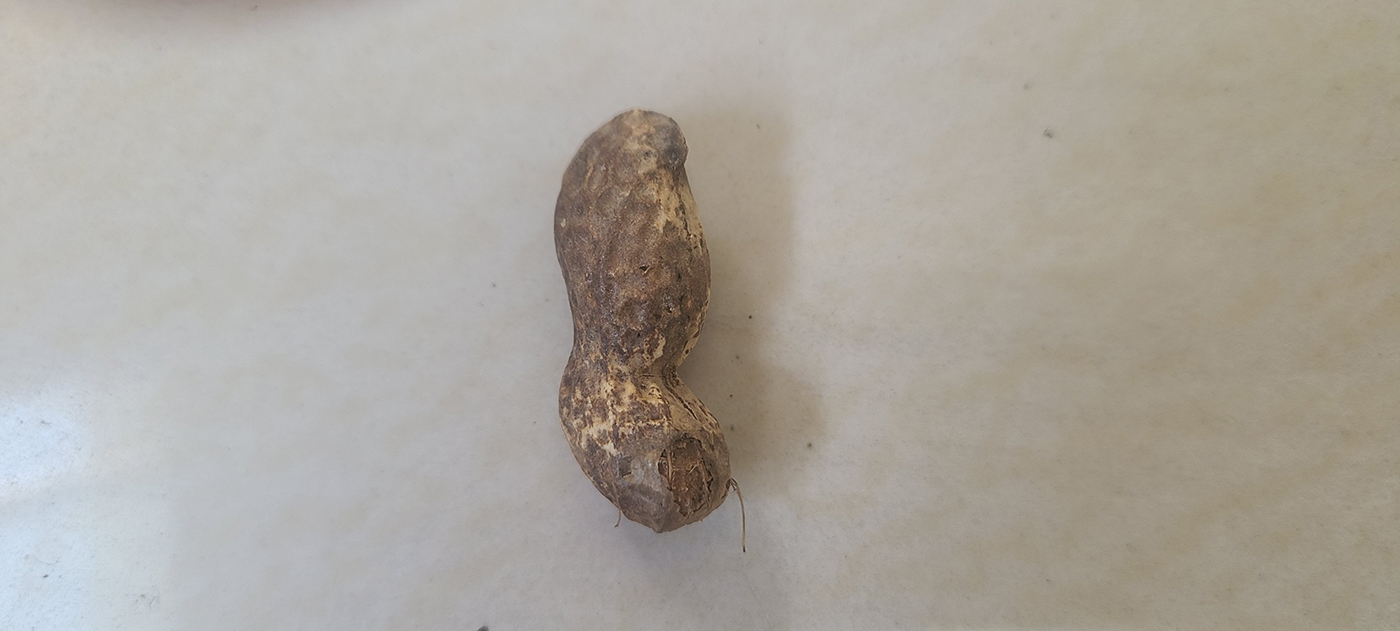l: (551, 112, 732, 531)
